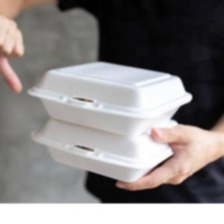foam_box: (25, 57, 196, 140), (28, 101, 184, 183)
